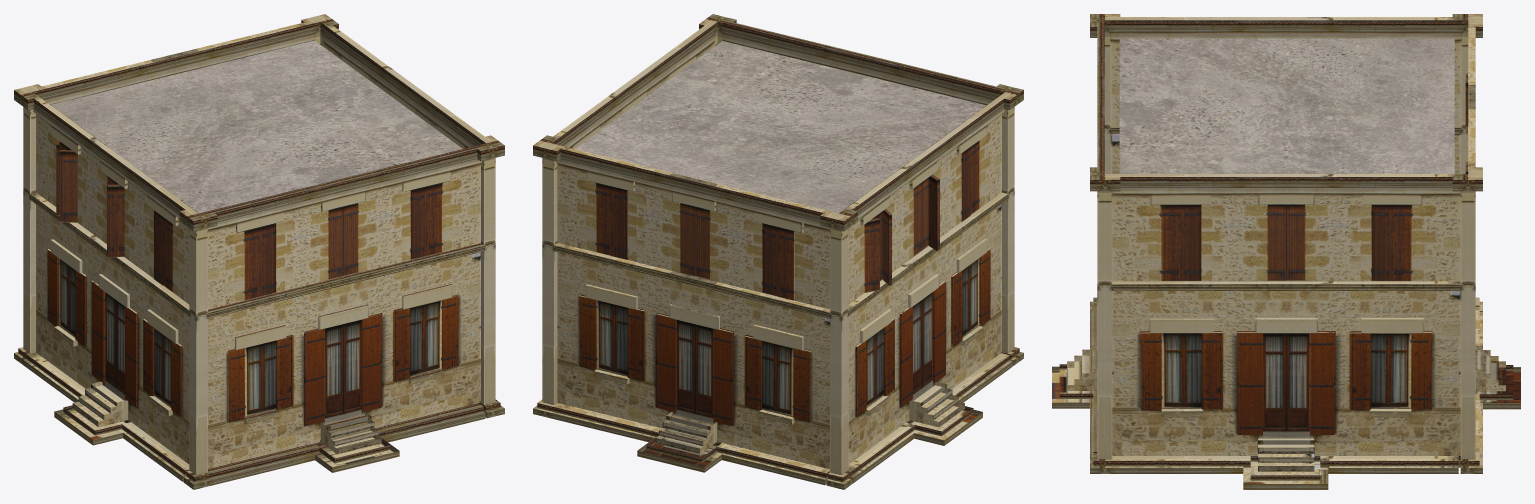
The model's file is BagBuilding8_70.fbx.
3 renders of one model, left to right at view 1: azimuth 30°, elevation 25°; view 2: azimuth 150°, elevation 25°; view 3: azimuth 270°, elevation 25°, orthographic. The views are drawn at different scales.
Parts seen in each view (by area): view 1: main70, Box70, roofA70; view 2: main70, Box70, roofA70; view 3: Box70, main70, roofA70.
Boxes of the visible parts, x1,y1,x2,y2 form: main70: (14, 14, 504, 489); Box70: (58, 138, 480, 467); roofA70: (51, 40, 462, 213); main70: (533, 14, 1023, 489); Box70: (557, 141, 979, 466); roofA70: (575, 41, 986, 213); Box70: (1104, 21, 1468, 453); main70: (1052, 14, 1520, 489); roofA70: (1119, 38, 1454, 173).
Bounding box in the file's own units: 21.69 × 15 × 21.69.
